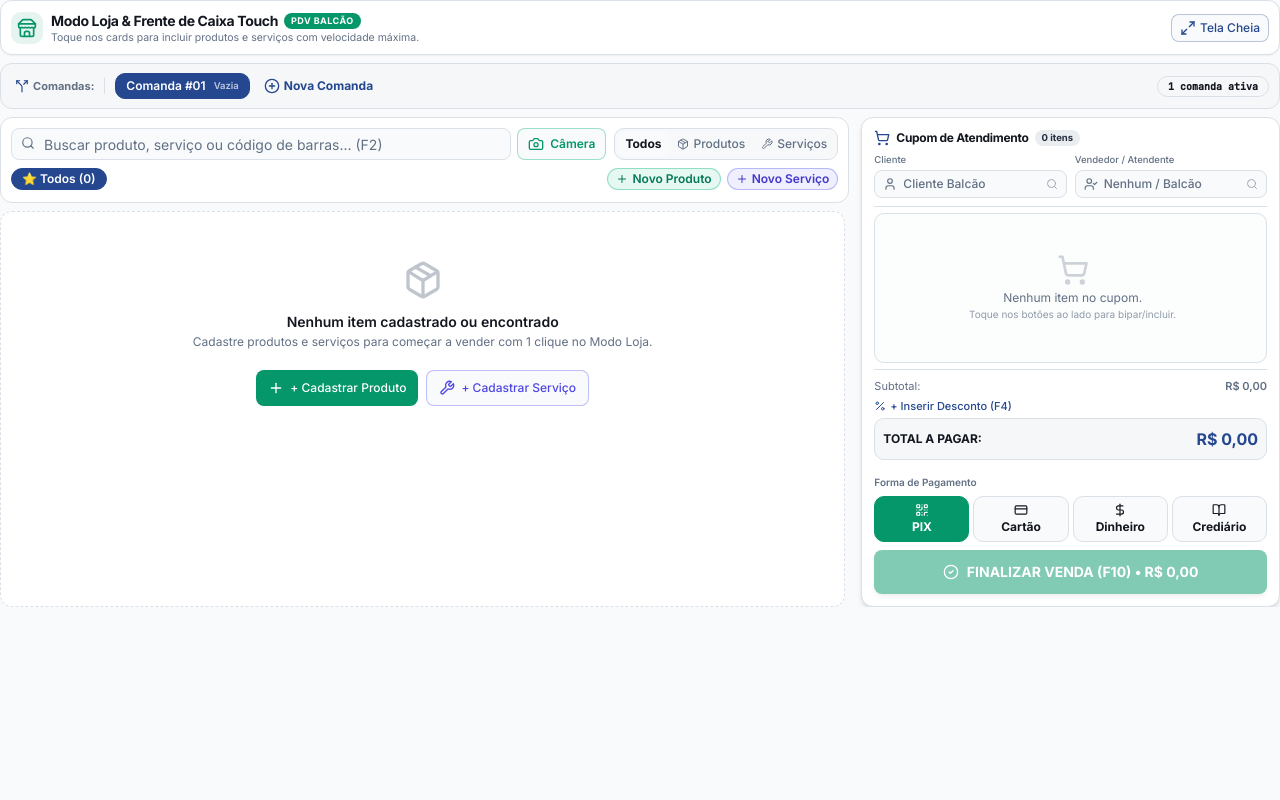
StorePos Component (Modo Loja / Frente de Caixa Touch) › deve abrir o modal de seleção de clientes com busca e filtros ao clicar no seletor
# Clica no seletor de cliente
Click the button "Cliente Balcão". click: (970, 184)
box: [874,170,1067,198]
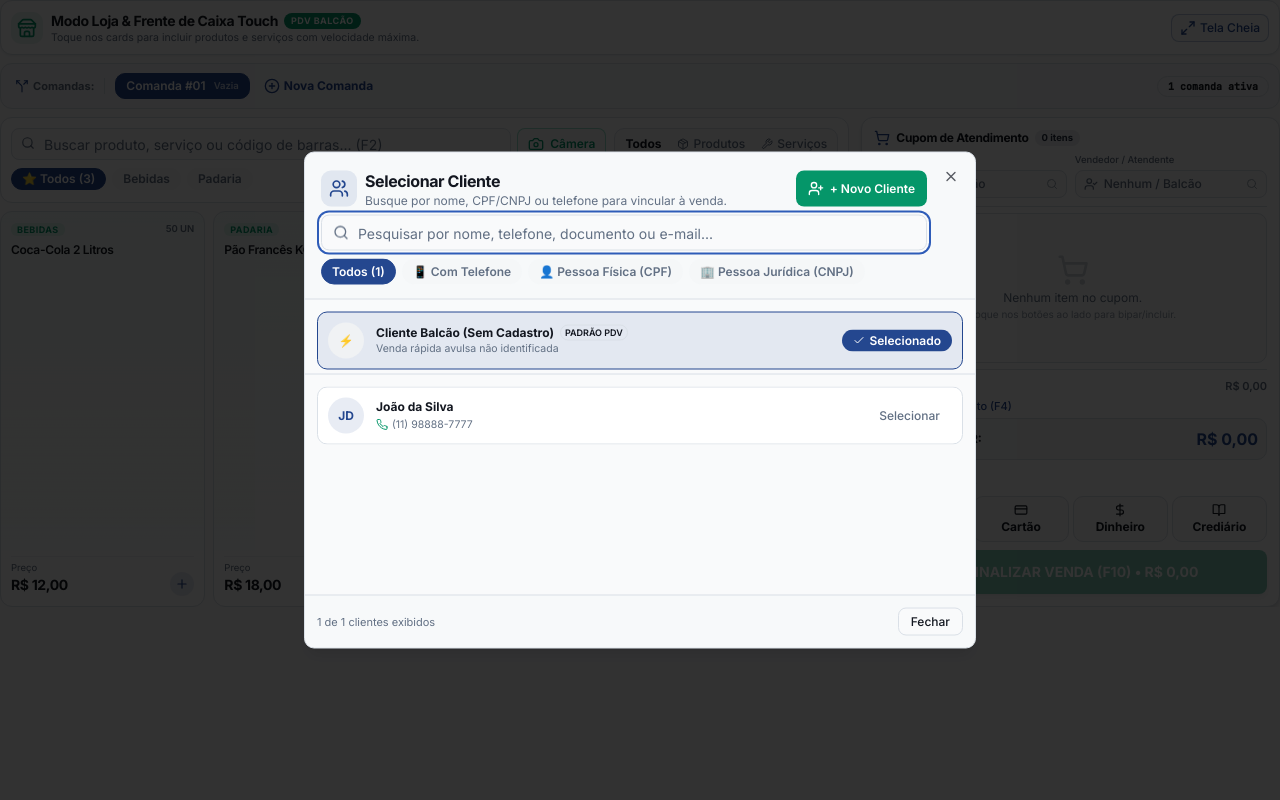
Now the heading "Selecionar Cliente" is shown, box [365,170,500,190]
Now the field with placeholder "Pesquisar por nome, telefone, documento ou e-mail..." is shown, box [321,214,927,250]
Now the button "📱 Com Telefone" is shown, box [402,258,522,284]
